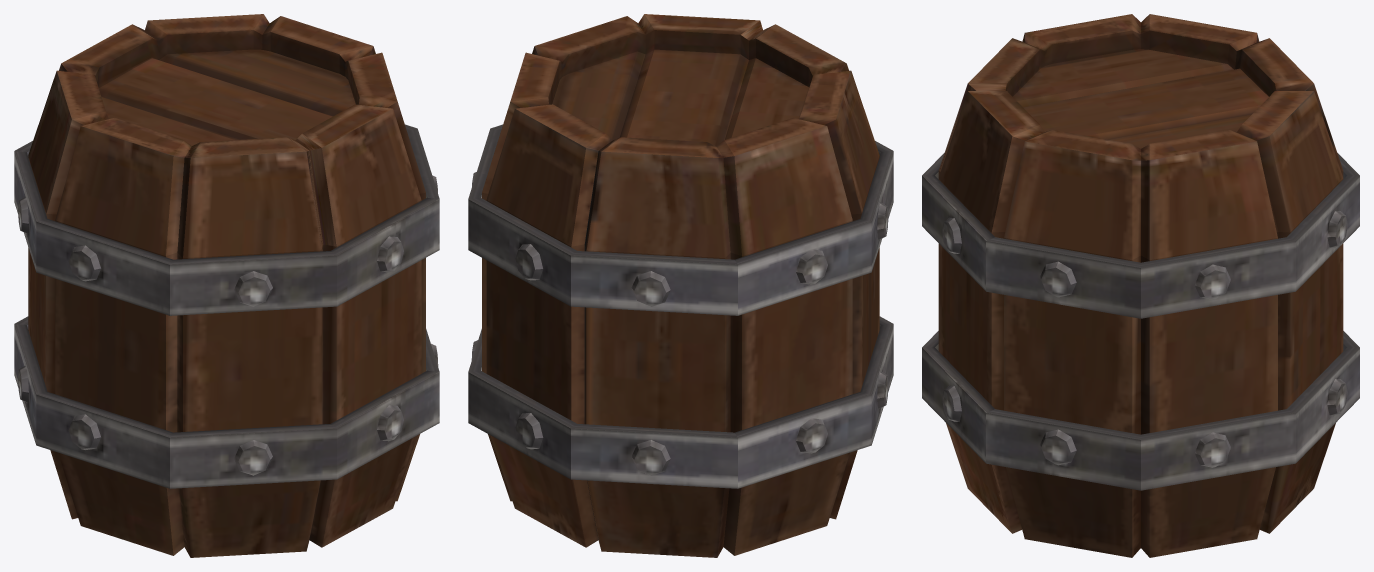
File: Barrel_01.glb
The picture shows the model from 3 angles, left to right: view 1: azimuth 30°, elevation 25°; view 2: azimuth 150°, elevation 25°; view 3: azimuth 270°, elevation 25°; orthographic projection.
Visible parts, largest first — view 1: Barrel_01; view 2: Barrel_01; view 3: Barrel_01.
Part boxes in pixels (x1,y1,x2,y2): Barrel_01: [14, 14, 439, 557]; Barrel_01: [468, 14, 893, 557]; Barrel_01: [922, 14, 1359, 557].
Size of the model in its own units: 1.22 by 1.22 by 1.22.
1 material, 1 textured.
